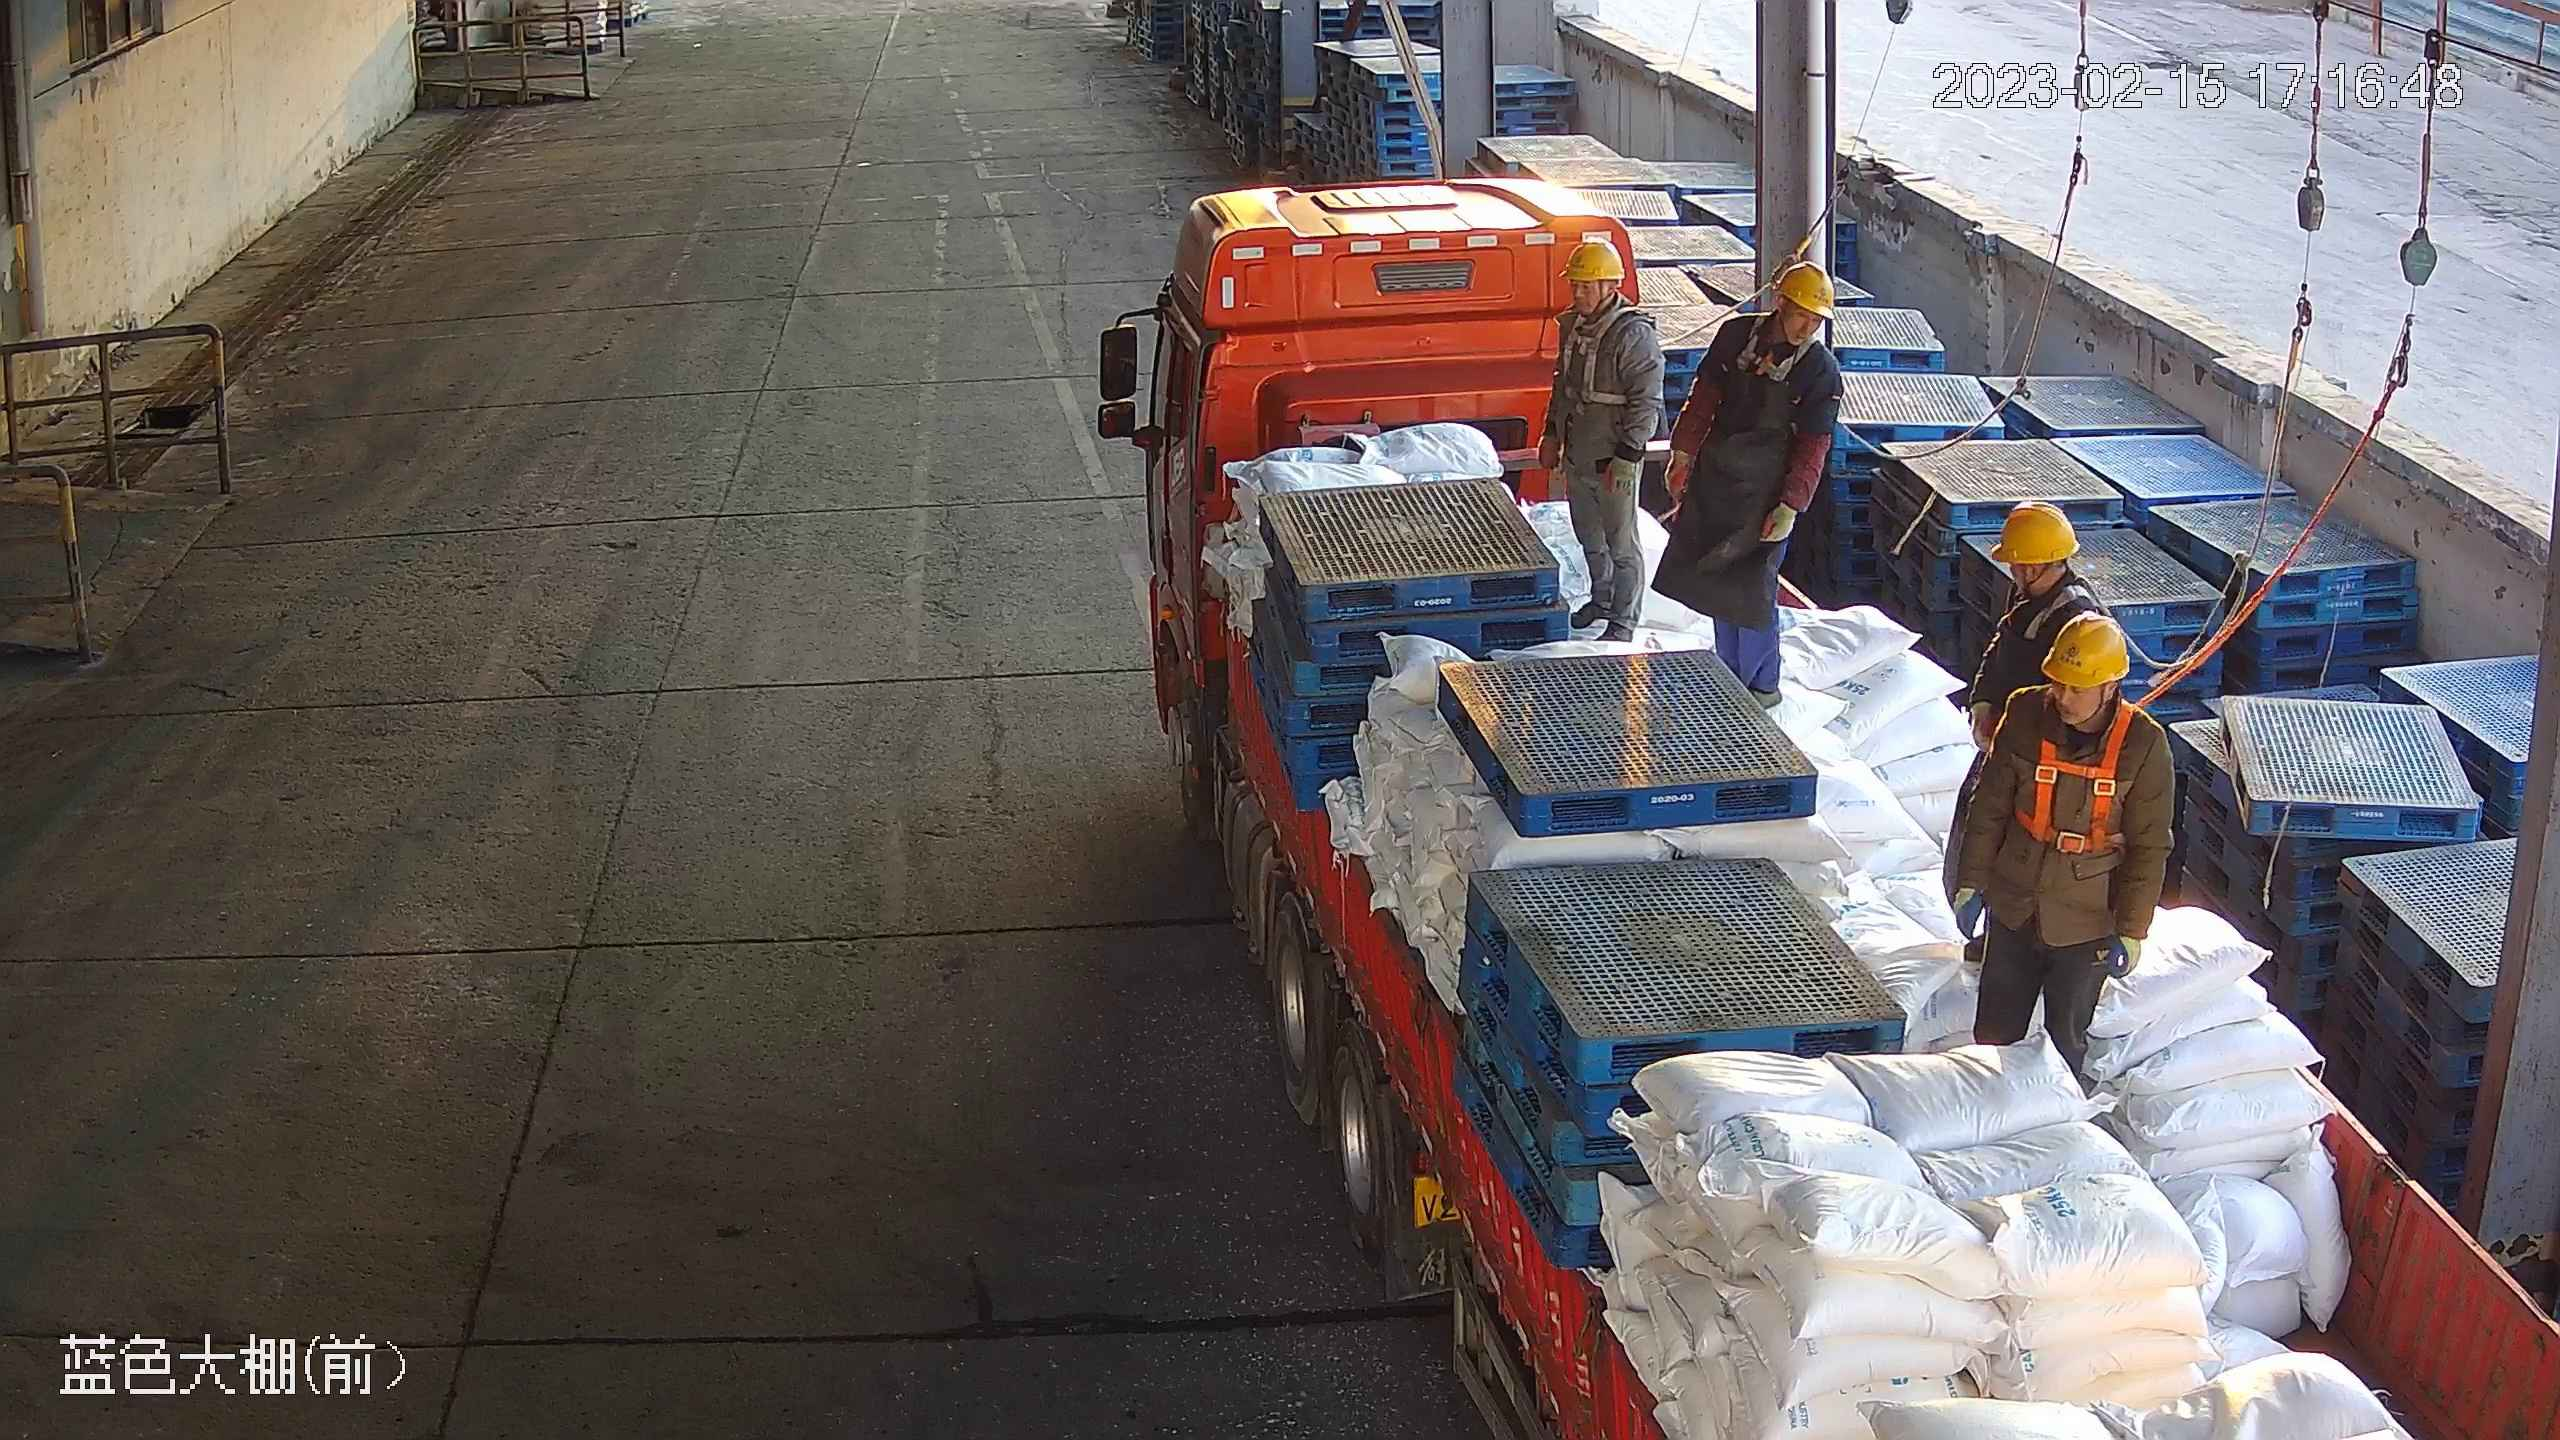belt: (2012, 707, 2140, 871), (1551, 303, 1644, 405), (1727, 318, 1818, 388), (2005, 584, 2101, 632)
head: (1992, 616, 2170, 797), (1677, 257, 1838, 407), (1975, 503, 2112, 634), (1544, 234, 1666, 370)
helmet: (2033, 610, 2140, 703), (1996, 497, 2088, 570), (1766, 260, 1842, 318), (1566, 236, 1635, 281)
people: (1949, 603, 2168, 1090), (1672, 260, 1831, 704), (1540, 225, 1672, 651)
truck: (1103, 168, 2560, 1440)
